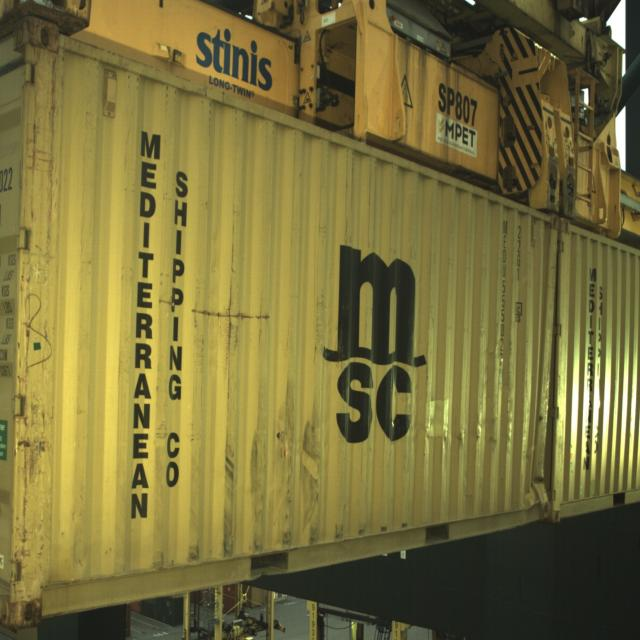dent: (522, 440, 563, 551)
